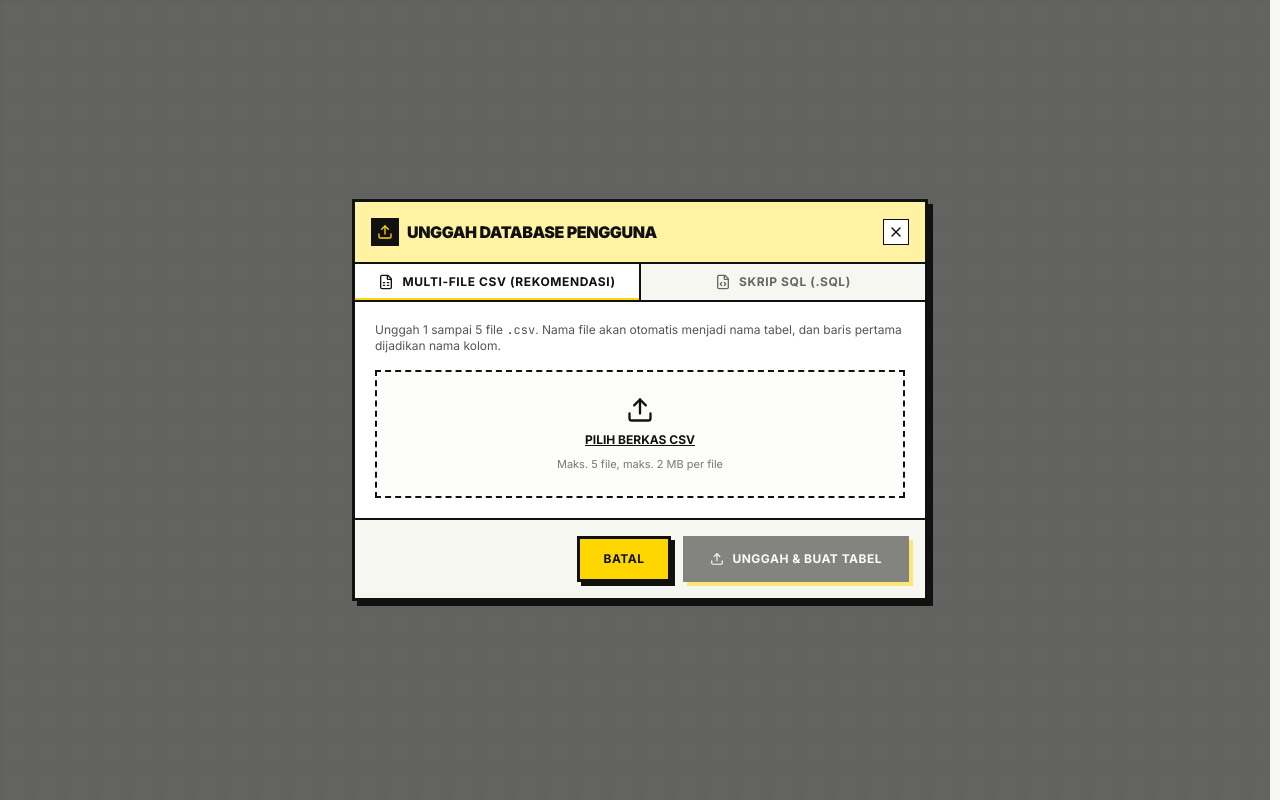
Test case: CustomDatasetModal Component › renders modal and switches between CSV and SQL tabs
Expected: the heading "UNGGAH DATABASE PENGGUNA" is shown, [407,220,657,244]
Expected: the text "Multi-File CSV (Rekomendasi)" is shown, [402,274,616,290]
# Click SQL tab
Click the button "Skrip SQL (.sql)".
click(783, 282)  # box [641,264,925,300]
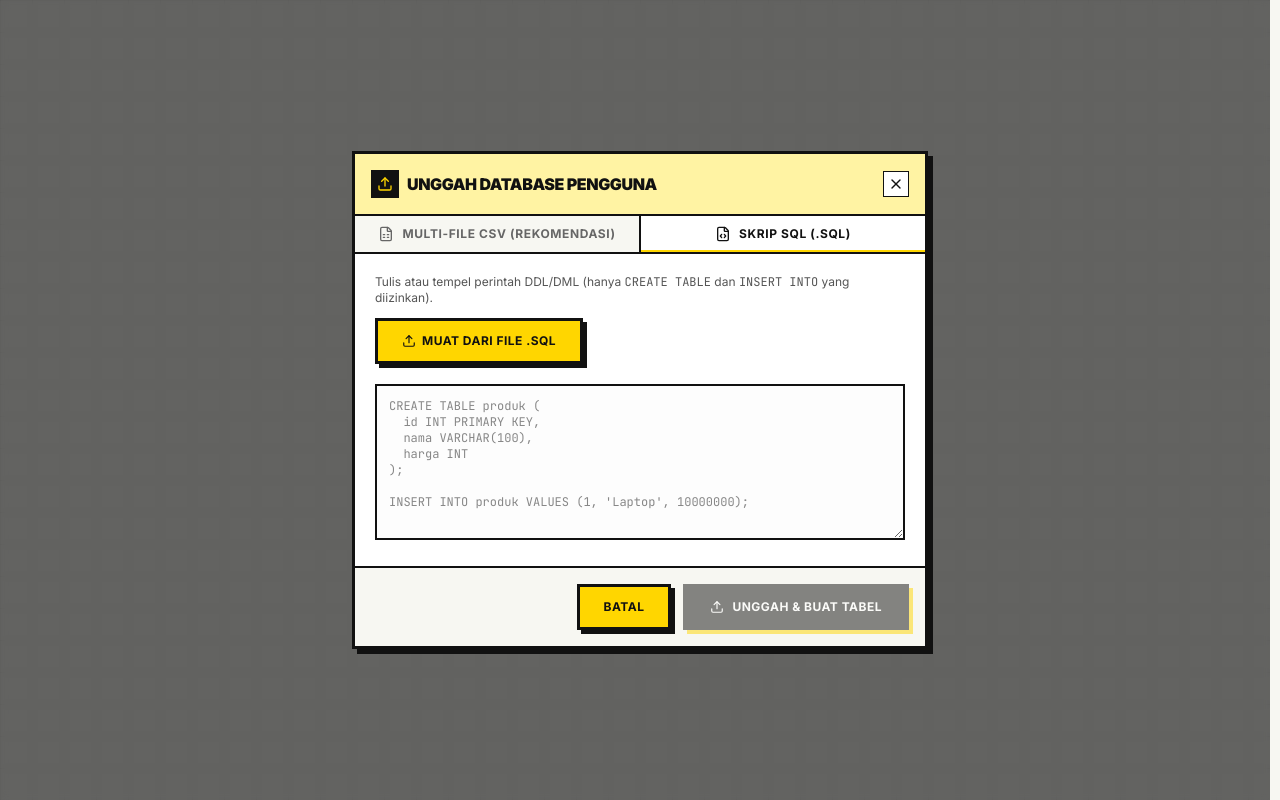
Expected: the text box with placeholder "CREATE TABLE produk" is shown, [375,384,905,540]
